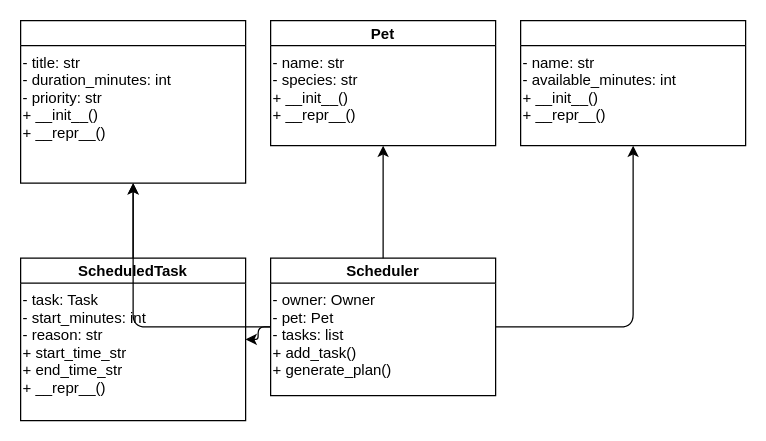
This 766x441 diagram has some shape labels left out. Here are the shapes that lost their labels. From the top down, the box of each, then its label:
(19, 19, 246, 183): Task
(519, 19, 746, 146): Owner
